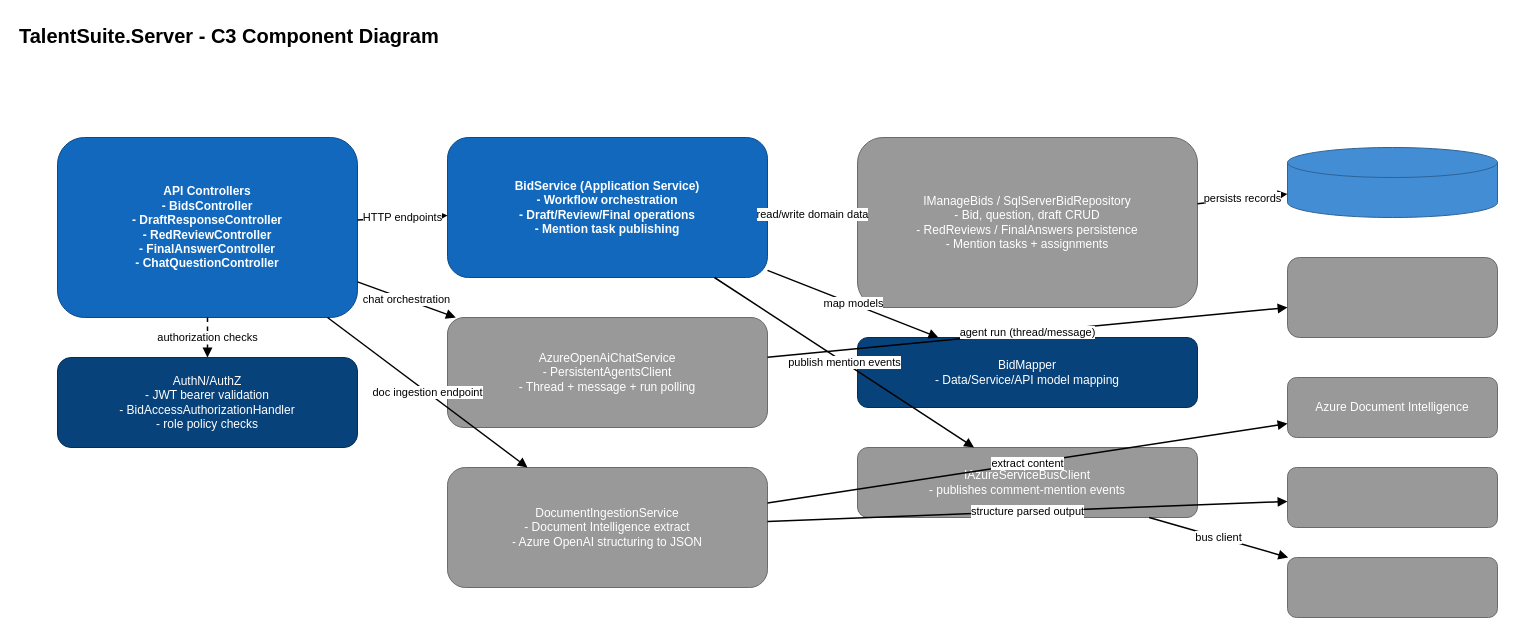
This 1515x635 diagram has some shape labels left out. The shapes that lost their labels are listed below. From the top down, each one's box as (x1, y1, x2, y2) in pixels, then its label:
(1286, 146, 1498, 218): SQL Database
(1286, 256, 1498, 338): Azure AI Foundry Project (Persistent Agent)
(1286, 466, 1498, 528): Azure OpenAI
(1286, 556, 1498, 618): Azure Service Bus
